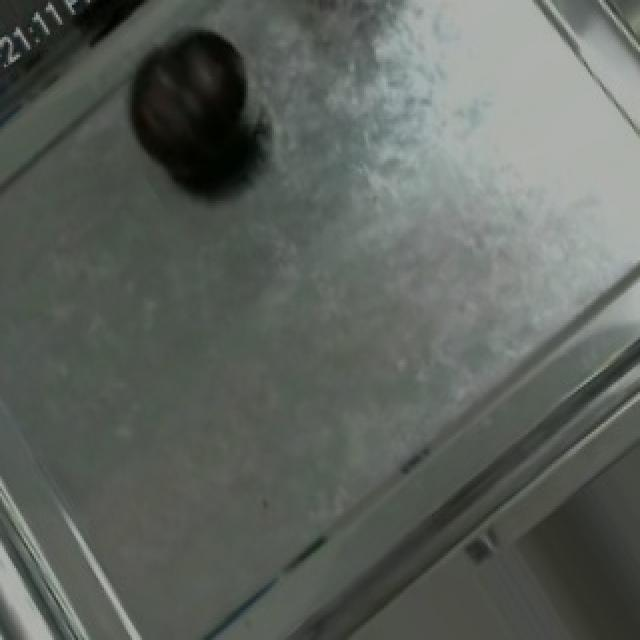Fruit: (106, 10, 268, 203)
